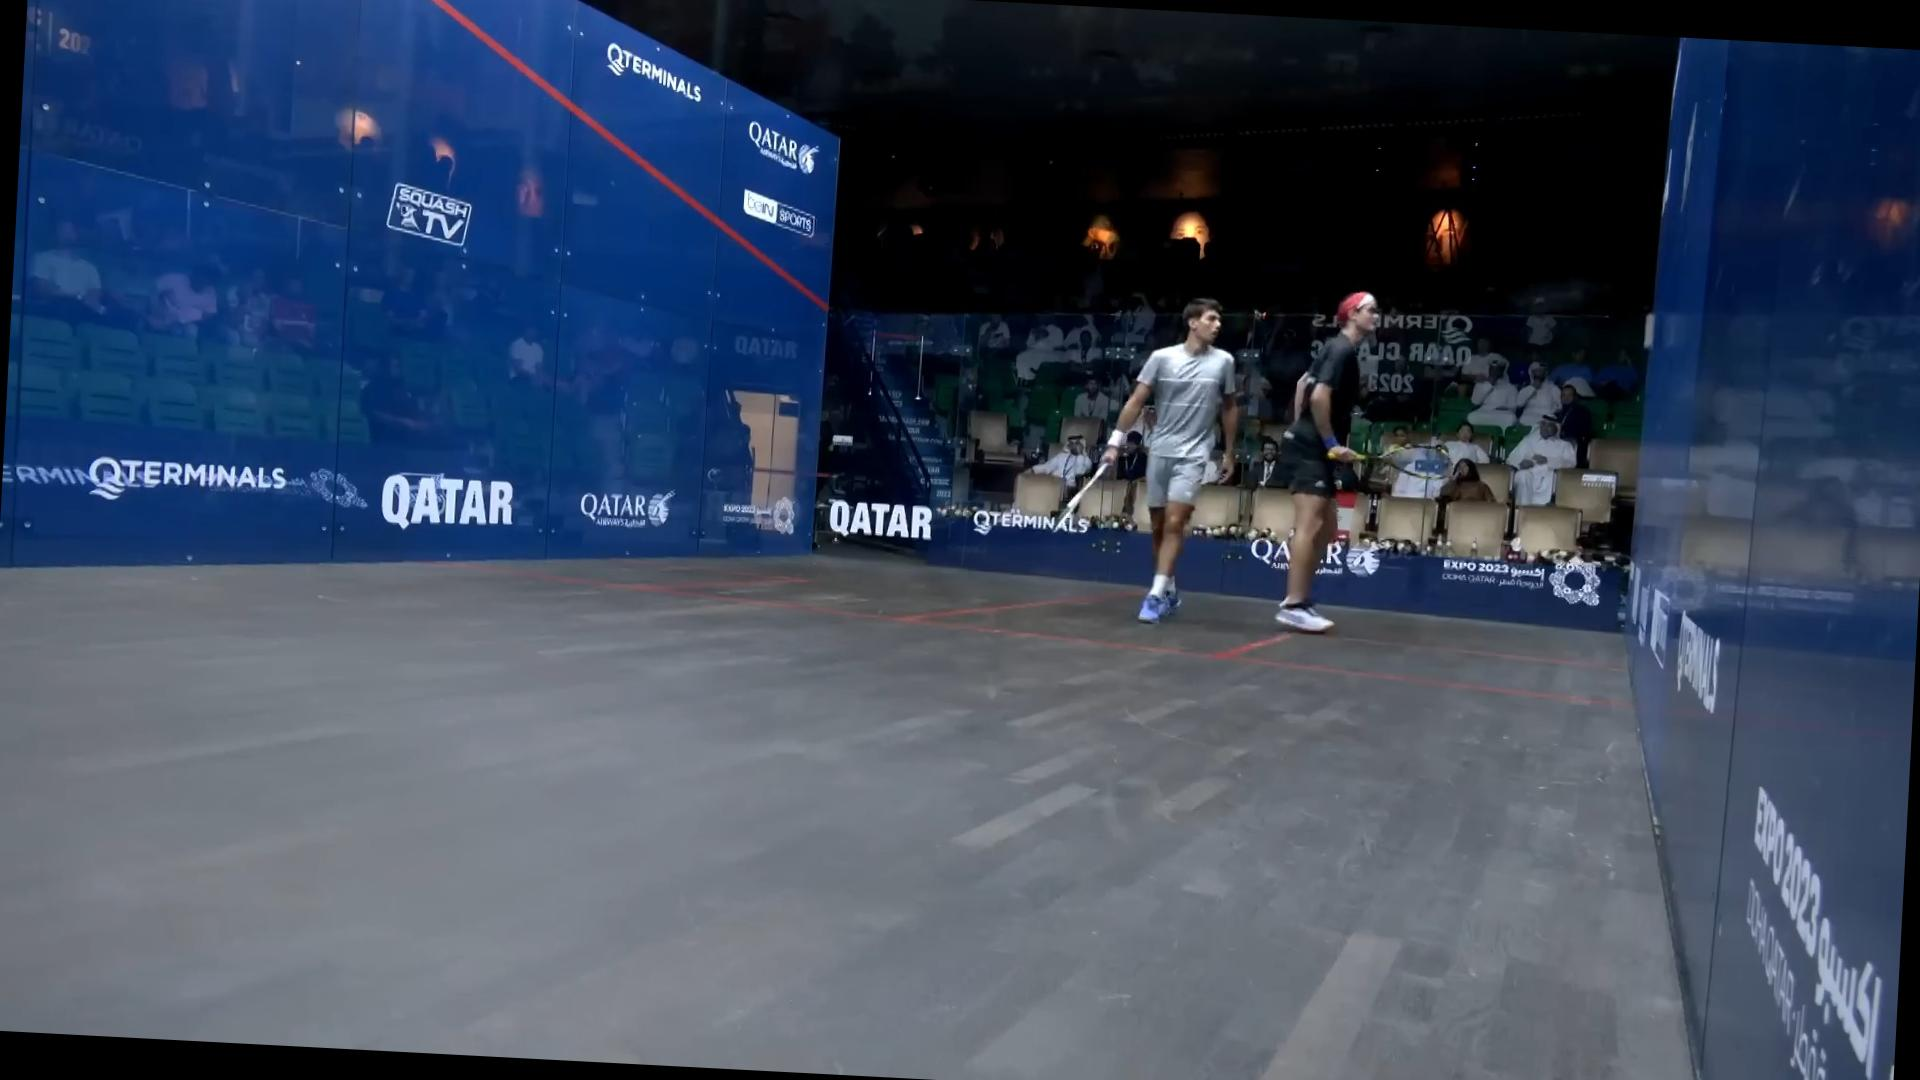Racket: (1353, 433, 1458, 485)
